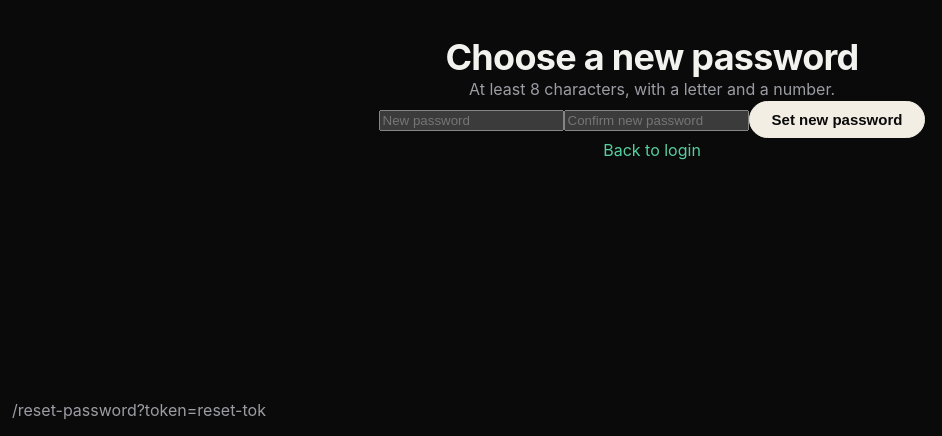
Test: ResetPassword — new-password mode (?token=) › rejects a confirm mismatch client-side
In the password field with placeholder "New password": (471, 120) left=379, top=110, right=564, bottom=130, type "password1"
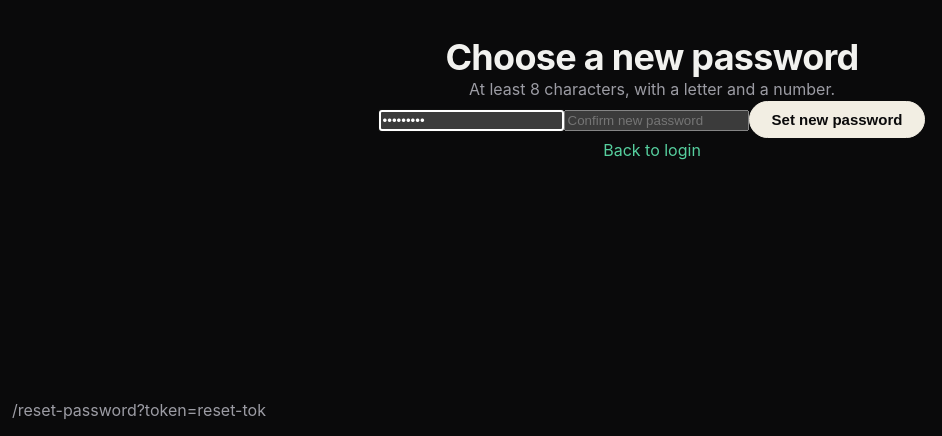
In the password field with placeholder "Confirm new password": (656, 120) left=564, top=110, right=749, bottom=130, type "password2"
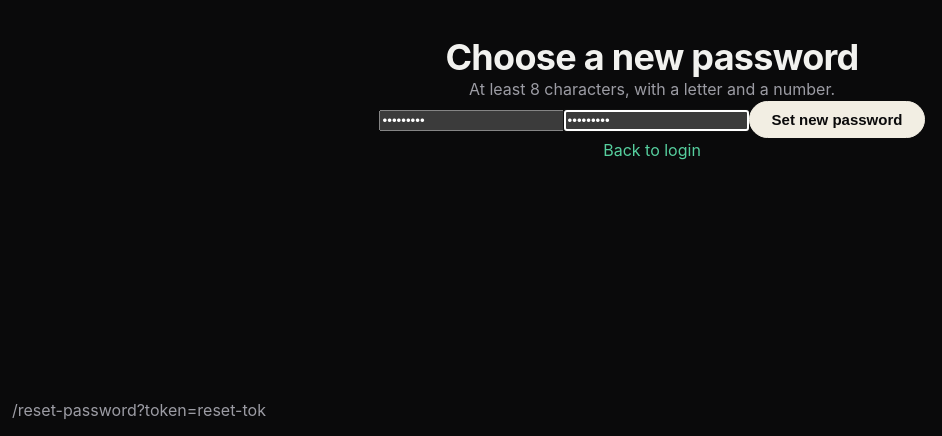
Click the button "Set new password": click(837, 119) left=749, top=100, right=926, bottom=138
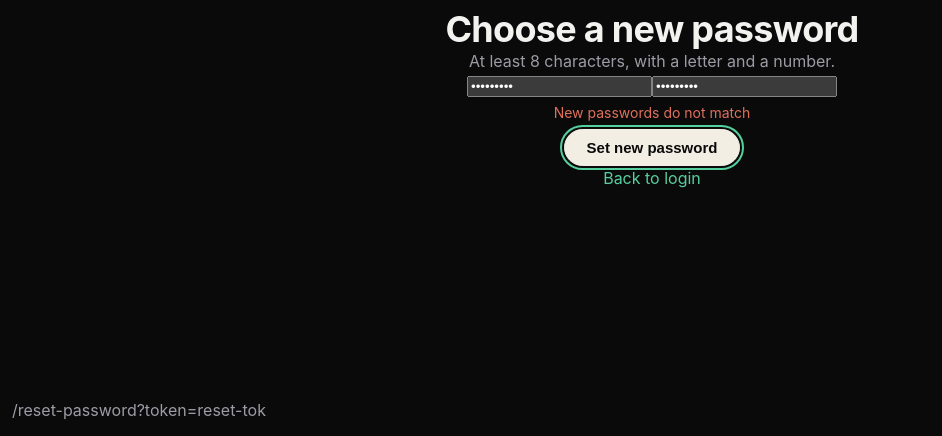
Expected: the text "New passwords do not match" is shown, left=554, top=104, right=750, bottom=120
